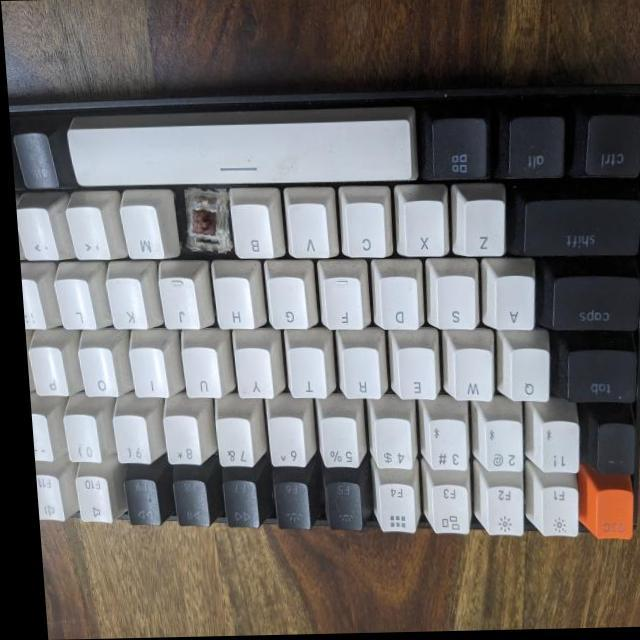key-switch: (178, 187, 228, 254)
